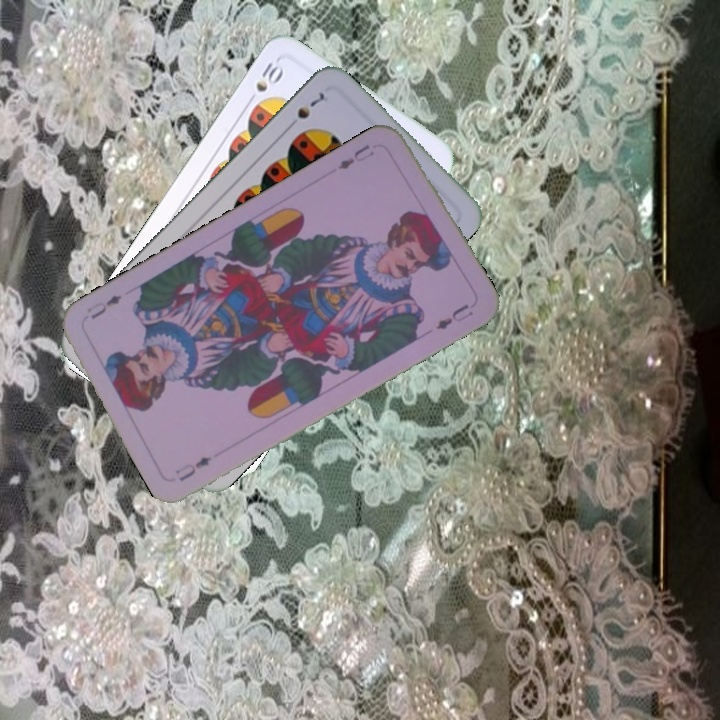EU: (333, 140, 377, 172), (171, 452, 214, 484)
S10: (242, 57, 287, 108)
S7: (283, 88, 327, 132)
